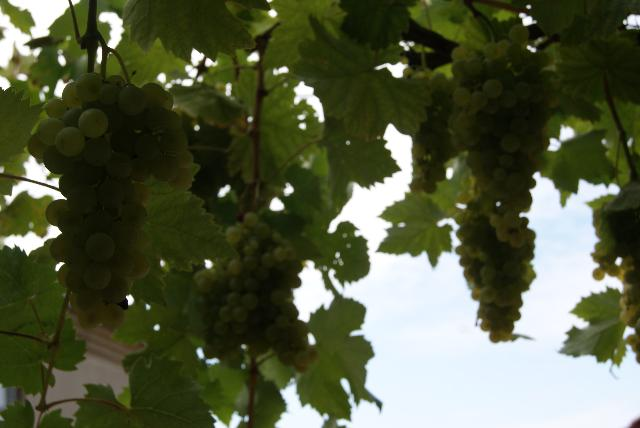grapes: (29, 71, 192, 329), (454, 24, 559, 341), (235, 214, 318, 371), (195, 246, 269, 358), (410, 72, 456, 194)
